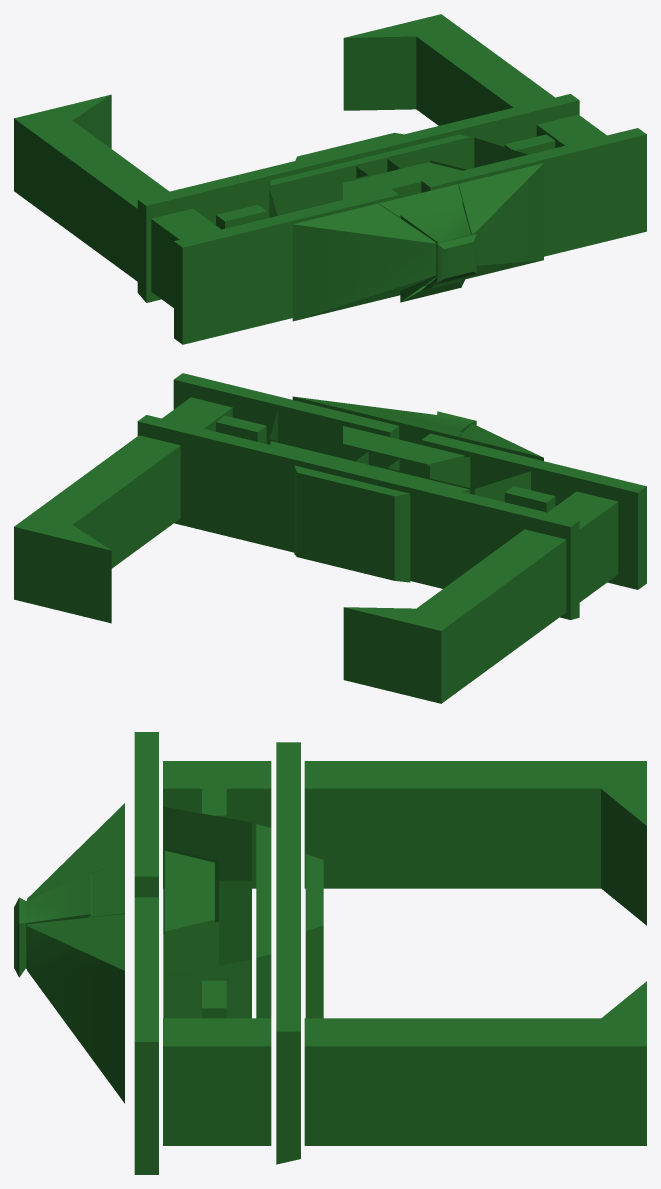
The model's file is recognizer_quad.fbx.
3 renders of one model, top to bottom at view 1: azimuth 30°, elevation 25°; view 2: azimuth 150°, elevation 25°; view 3: azimuth 270°, elevation 25°, orthographic. The views are drawn at different scales.
Parts seen in each view (by area): view 1: g LegA02, g LegB02, g Shoulder01, g Shoulder02, g Head02, g Middle_Bar, g Head04, g Head01, g LegA01, g Chest03, g Chest02, g Chest01 (+6 smaller); view 2: g Middle_Bar, g LegA02, g LegB02, g Lower_Midd, g Shoulder01, g Shoulder02, g LegA01, g Chest03, g Chest02, g Chest01, g LegB01, g Head04 (+6 smaller); view 3: g LegB02, g LegA02, g LegB01, g Head04, g Middle_Bar, g Chest02, g Shoulder02, g LegA01, g Chest03, g Shoulder01, g Chest01, g Head01 (+6 smaller).
Part boxes in pixels (left/top/right/bottom): g LegA02: left=14, top=94, right=169, bottom=281; g LegB02: left=343, top=14, right=554, bottom=125; g Shoulder01: left=174, top=188, right=399, bottom=344; g Shoulder02: left=421, top=128, right=646, bottom=256; g Head02: left=292, top=203, right=436, bottom=321; g Middle_Bar: left=137, top=94, right=579, bottom=302; g Head04: left=458, top=163, right=543, bottom=279; g Head01: left=400, top=200, right=476, bottom=302; g LegA01: left=151, top=208, right=220, bottom=307; g Chest03: left=269, top=166, right=368, bottom=217; g Chest02: left=387, top=137, right=527, bottom=171; g Chest01: left=343, top=162, right=461, bottom=199; g Middle_Bar: left=137, top=415, right=579, bottom=619; g LegA02: left=343, top=529, right=566, bottom=703; g LegB02: left=14, top=435, right=180, bottom=623; g Lower_Midd: left=294, top=465, right=410, bottom=582; g Shoulder01: left=421, top=433, right=646, bottom=589; g Shoulder02: left=173, top=373, right=399, bottom=444; g LegA01: left=548, top=491, right=618, bottom=602; g Chest03: left=387, top=456, right=530, bottom=501; g Chest02: left=269, top=409, right=368, bottom=464; g Chest01: left=343, top=426, right=464, bottom=469; g LegB01: left=162, top=397, right=232, bottom=431; g Head04: left=292, top=396, right=434, bottom=420; g LegB02: left=304, top=981, right=646, bottom=1145; g LegA02: left=304, top=761, right=646, bottom=925; g LegB01: left=163, top=1018, right=271, bottom=1145; g Head04: left=27, top=914, right=124, bottom=1103; g Middle_Bar: left=276, top=742, right=300, bottom=1164; g Chest02: left=163, top=901, right=251, bottom=1018; g Shoulder02: left=134, top=897, right=158, bottom=1174; g LegA01: left=163, top=761, right=271, bottom=888; g Chest03: left=163, top=806, right=251, bottom=934; g Shoulder01: left=134, top=732, right=158, bottom=897; g Chest01: left=164, top=850, right=214, bottom=934; g Head01: left=14, top=873, right=92, bottom=977.
Size of the model in its own units: 300 by 60 by 259.
